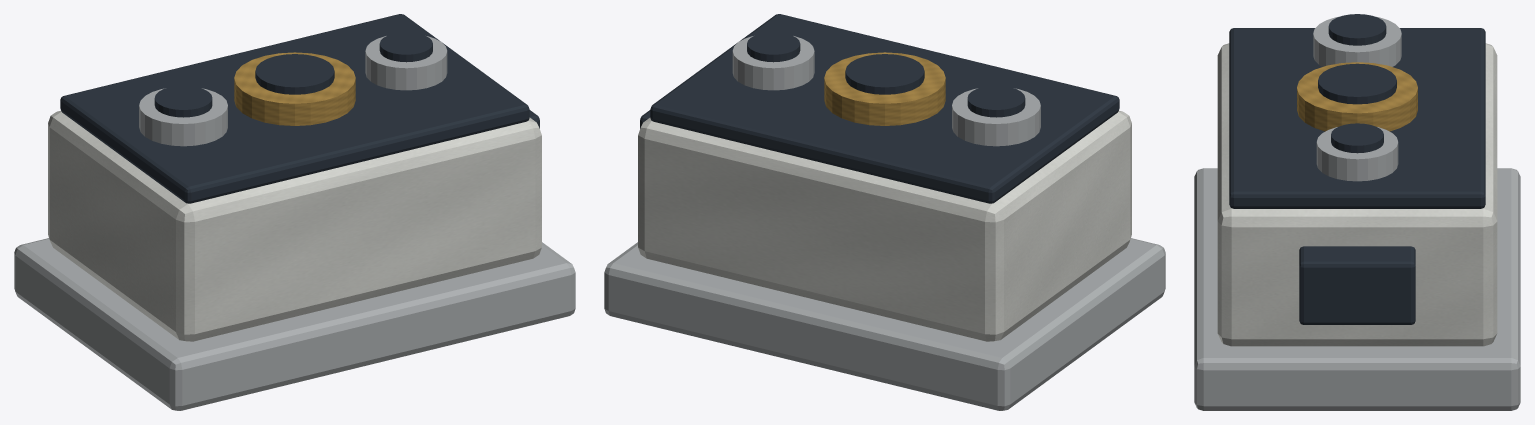
The model's file is lunar_volatile_spectrometer.glb.
3 views of the same model, side by side, from view 1: azimuth 30°, elevation 25°; view 2: azimuth 150°, elevation 25°; view 3: azimuth 270°, elevation 25° (orthographic).
Parts seen in each view (by area): view 1: Sensor_Head, Sensor_Mount.002, Head_Face, Optical_Channel.001, Optical_Channel, Optical_Channel.002, Optical_Window.011, Optical_Window.010, Optical_Window.012; view 2: Sensor_Head, Sensor_Mount.002, Head_Face, Optical_Channel.001, Optical_Channel, Optical_Channel.002, Optical_Window.011, Optical_Window.010, Optical_Window.012; view 3: Sensor_Head, Head_Face, Sensor_Mount.002, Data_Connector, Optical_Channel.001, Optical_Channel.002, Optical_Window.011, Optical_Channel, Optical_Window.010, Optical_Window.012.
Part boxes in pixels (x1,y1,x2,y2): Sensor_Head: (48,110,541,341); Sensor_Mount.002: (14,238,575,410); Head_Face: (60,14,529,203); Optical_Channel.001: (234,52,355,125); Optical_Channel: (139,88,227,146); Optical_Channel.002: (365,36,447,90); Optical_Window.011: (255,54,334,94); Optical_Window.010: (154,85,212,117); Optical_Window.012: (379,32,432,62); Sensor_Head: (638,110,1131,341); Sensor_Mount.002: (604,238,1165,410); Head_Face: (650,14,1119,203); Optical_Channel.001: (824,52,945,125); Optical_Channel: (952,88,1040,146); Optical_Channel.002: (732,36,814,90); Optical_Window.011: (845,54,924,94); Optical_Window.010: (967,85,1025,117); Optical_Window.012: (747,32,800,62); Sensor_Head: (1217,43,1497,346); Head_Face: (1229,28,1485,208); Sensor_Mount.002: (1194,168,1520,410); Data_Connector: (1299,246,1415,324); Optical_Channel.001: (1297,62,1417,131); Optical_Channel.002: (1316,127,1398,181); Optical_Window.011: (1318,63,1396,104); Optical_Channel: (1313,16,1401,66); Optical_Window.010: (1328,14,1386,45); Optical_Window.012: (1331,123,1383,153).
Bounding box in the file's own units: 0.415 × 0.223 × 0.28.
Materials: 4 (2 with a texture image).
